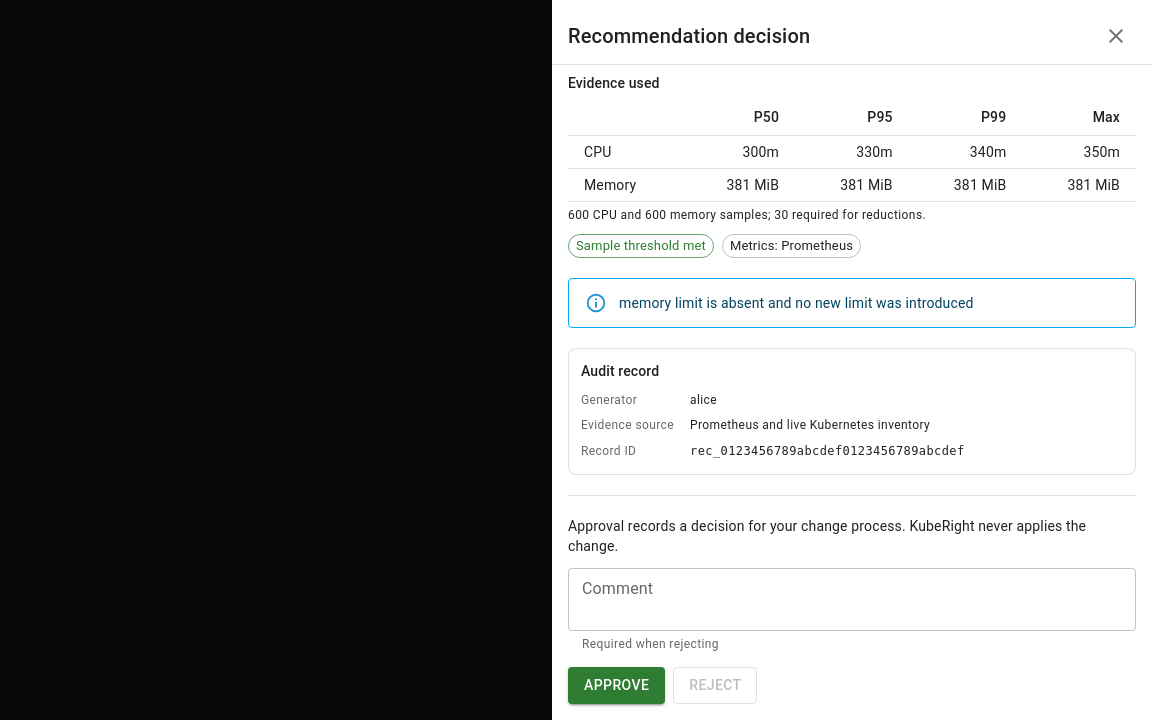
it: RecommendationDrawer › surfaces a refused review
(page scrolled)
Click the button "Approve" at point(617, 685), box [568,667,665,704]
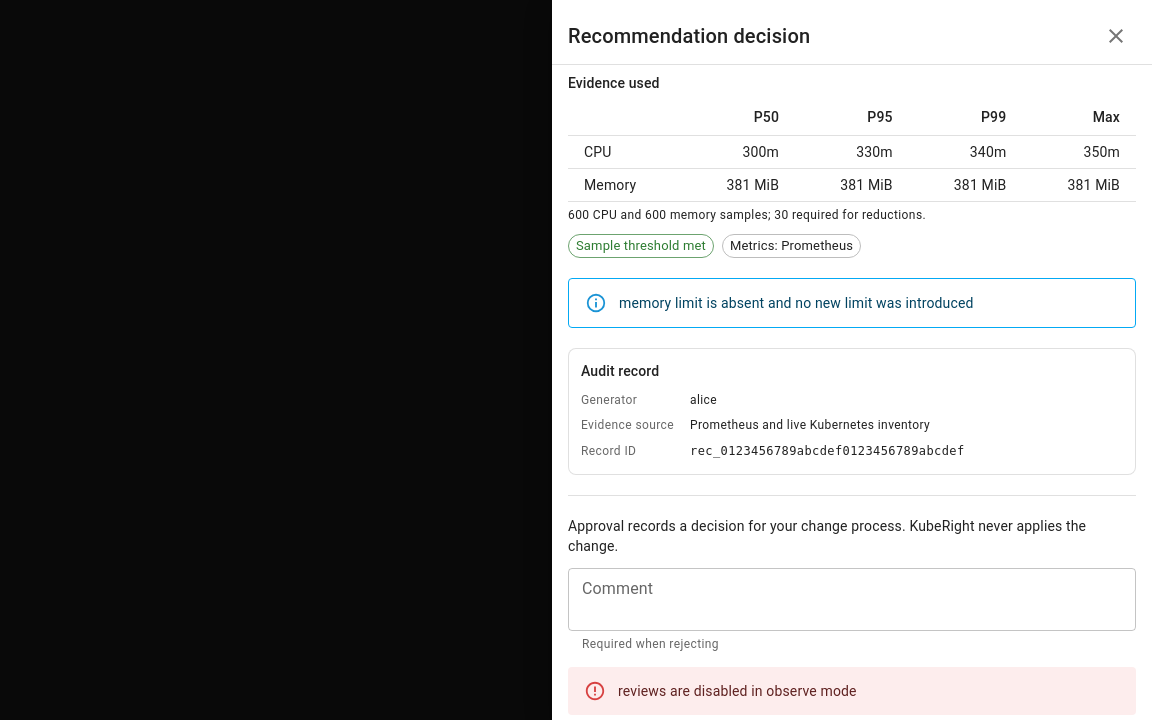
Expected: the text "reviews are disabled in observe mode" is shown, [618,683,857,699]
